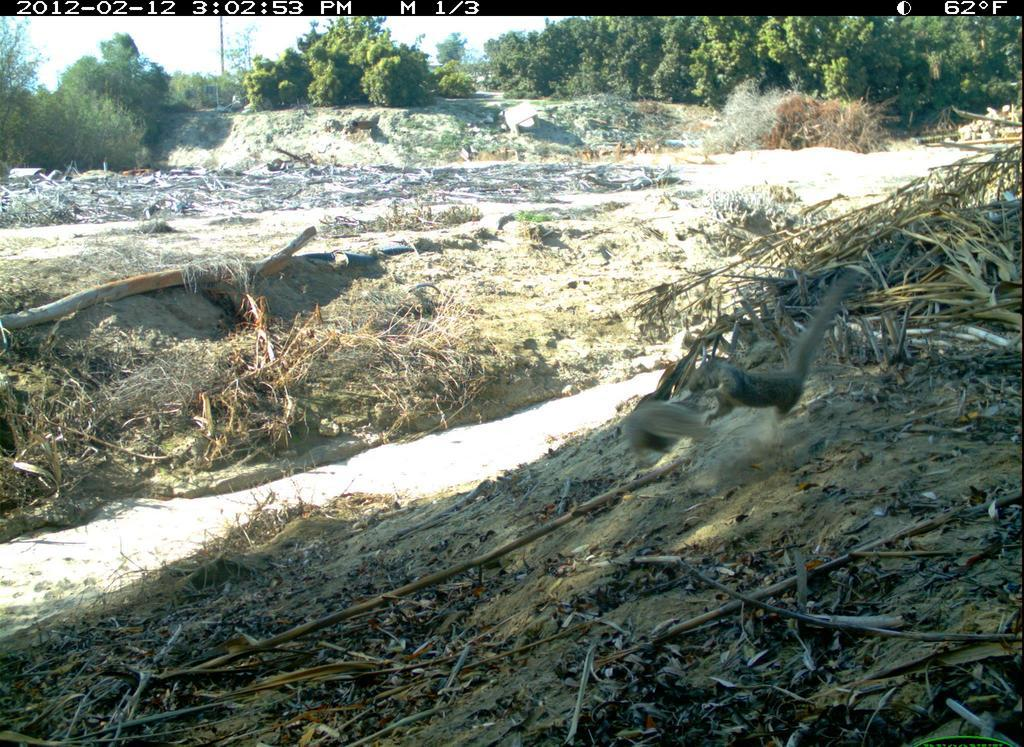squirrel: (685, 262, 877, 443), (610, 390, 713, 465)
